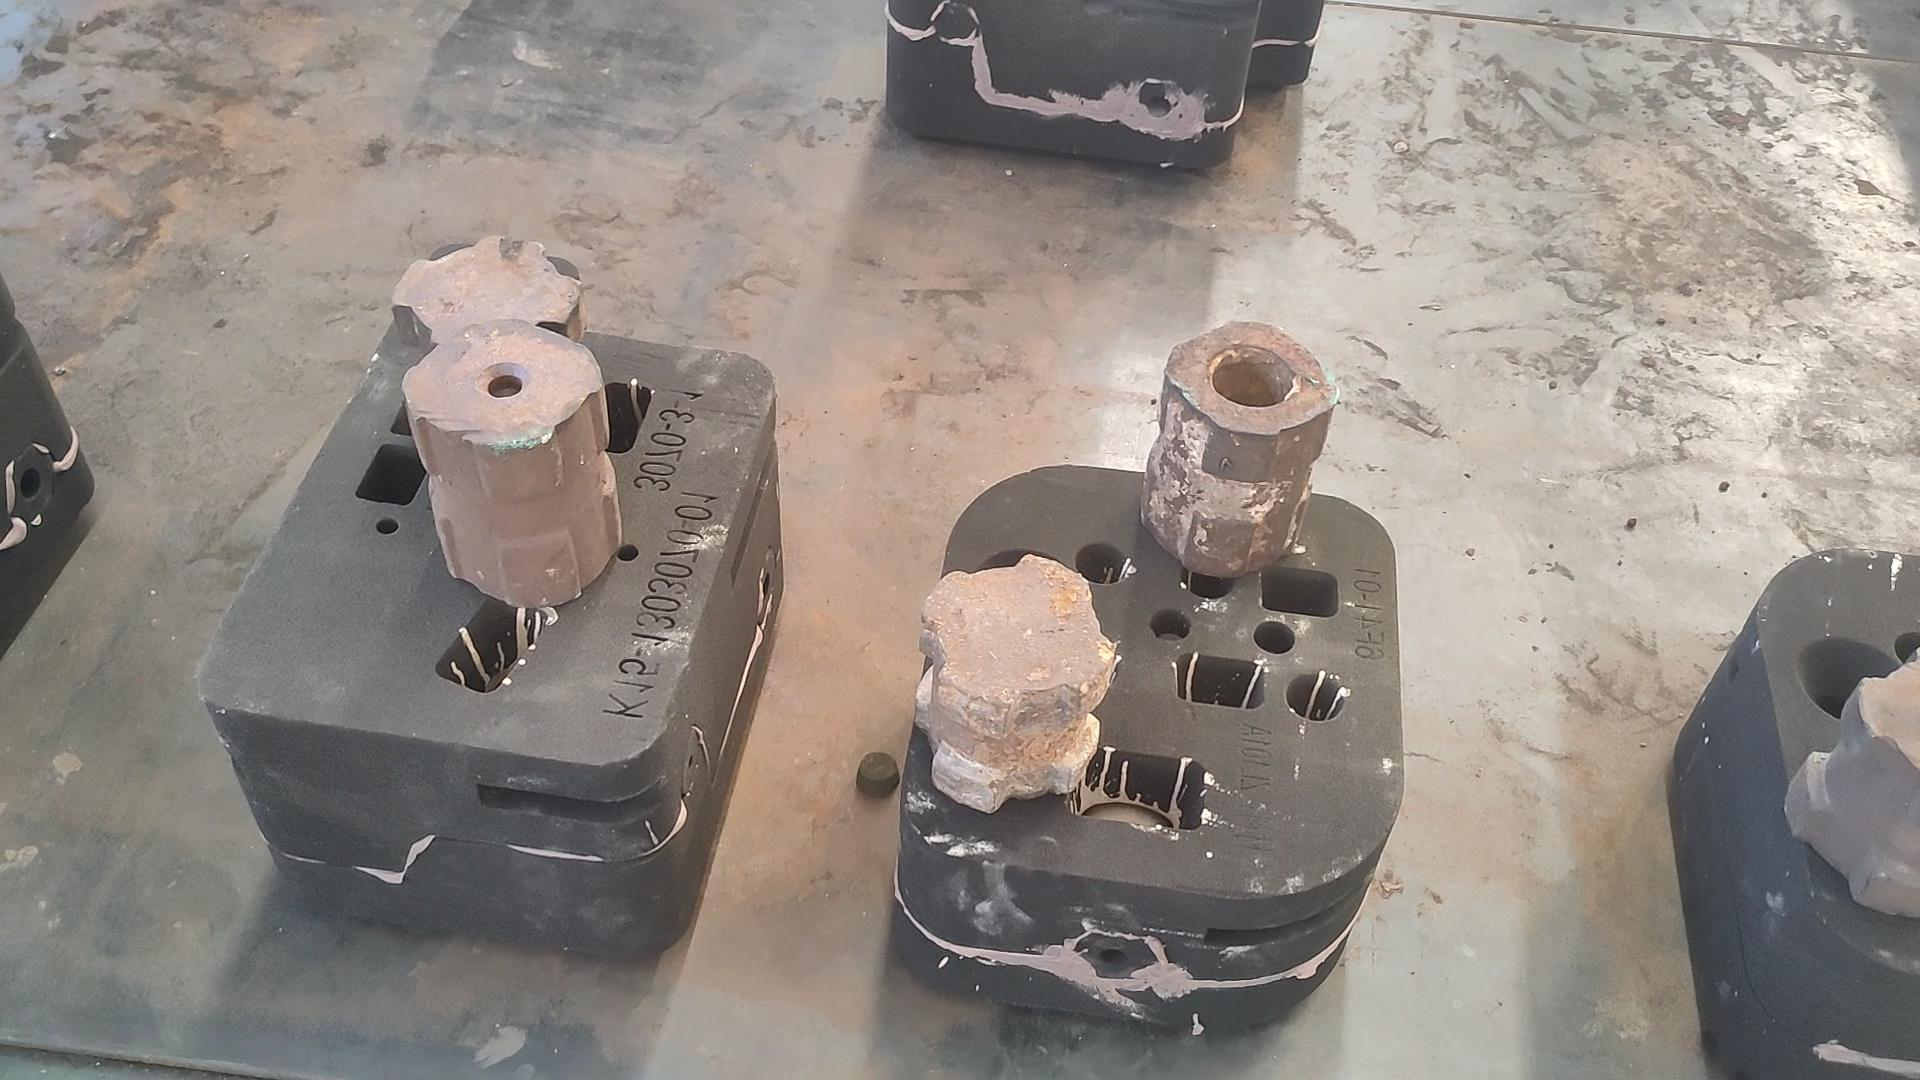pouring hole: (1793, 634, 1909, 727), (963, 549, 1077, 640), (421, 255, 529, 330)
